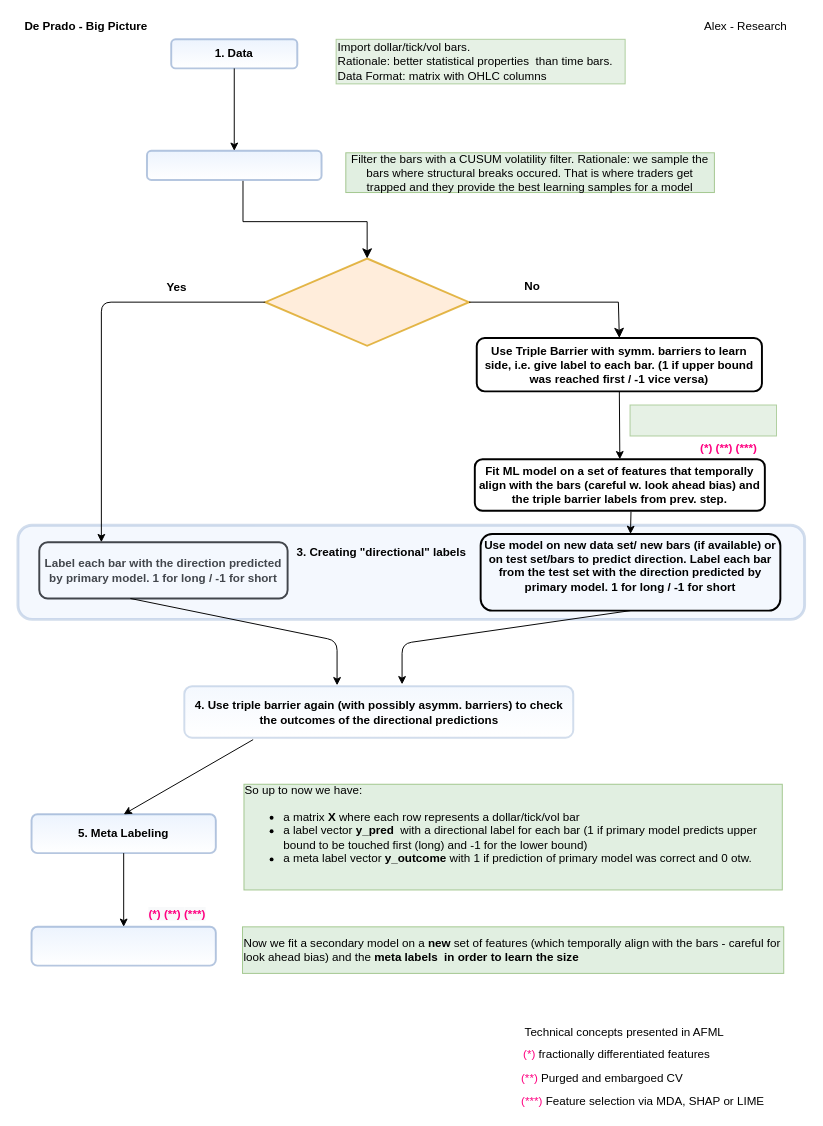
Some shapes in this 823 by 1126 pixel diagram are drawn without their labels. The centre of each missing label's shape, as x and y in pixels:
2. Sample "significant Bars": point 234,164
6. Fit secondary model: point 123,945
Do we have a model for the side?: point 366,301
Fit model for learning side: point 702,420
